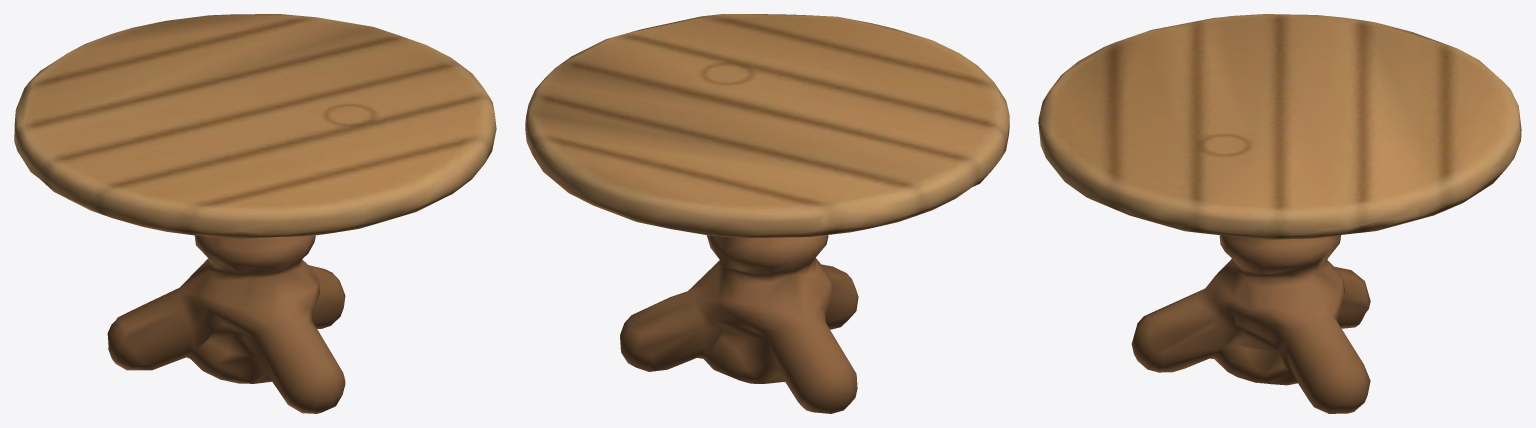
Rendered from round-table.glb.
3 renders of one model, left to right at view 1: azimuth 30°, elevation 25°; view 2: azimuth 150°, elevation 25°; view 3: azimuth 270°, elevation 25°, orthographic.
Parts seen in each view (by area): view 1: top; view 2: top; view 3: top.
Part boxes in pixels (x1,y1,x2,y2): top: (14,14,496,413); top: (525,14,1009,413); top: (1038,14,1521,413).
Bounding box in the file's own units: 1.05 × 0.6 × 1.05.
1 material, 1 textured.
